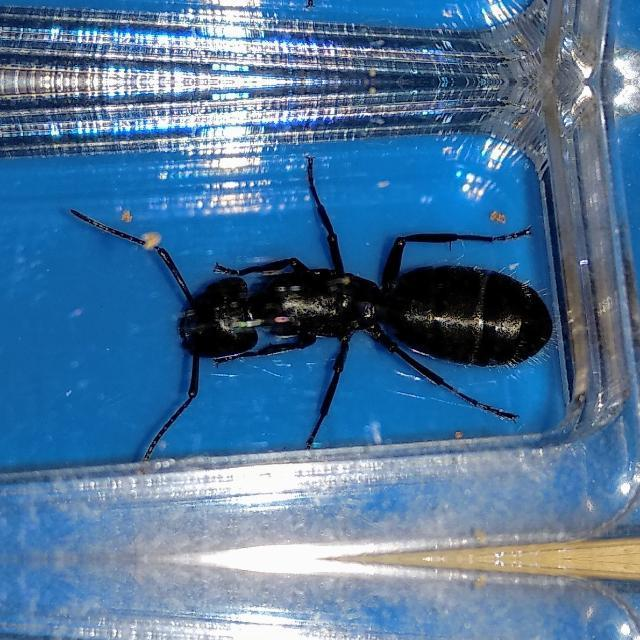Camponotus: (118, 196, 566, 418)
